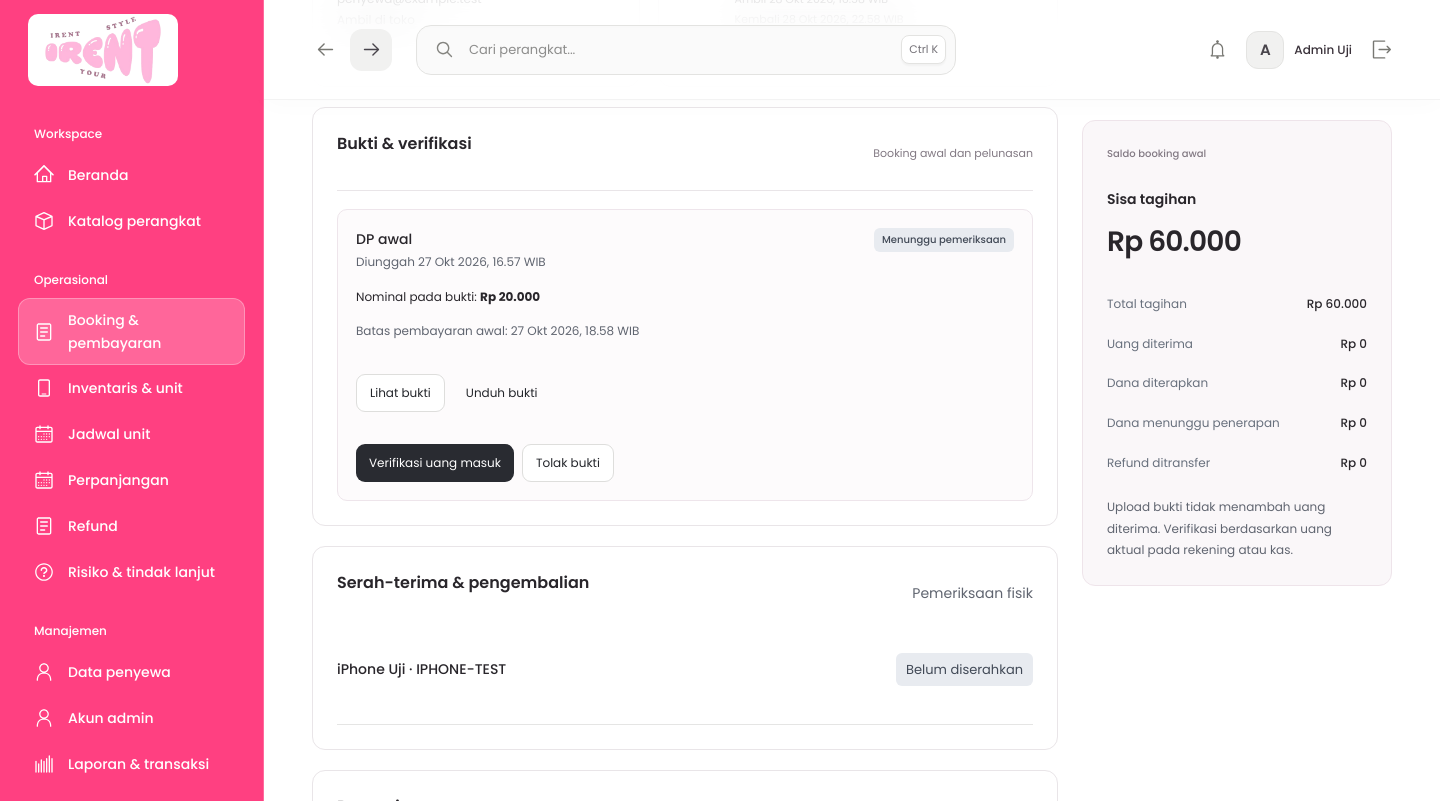
Scenario: rejects a proof with a reason without invoking booking cancellation
(page scrolled)
Click the button "Tolak bukti": coordinates (568, 462) x1=522 y1=444 x2=614 y2=482
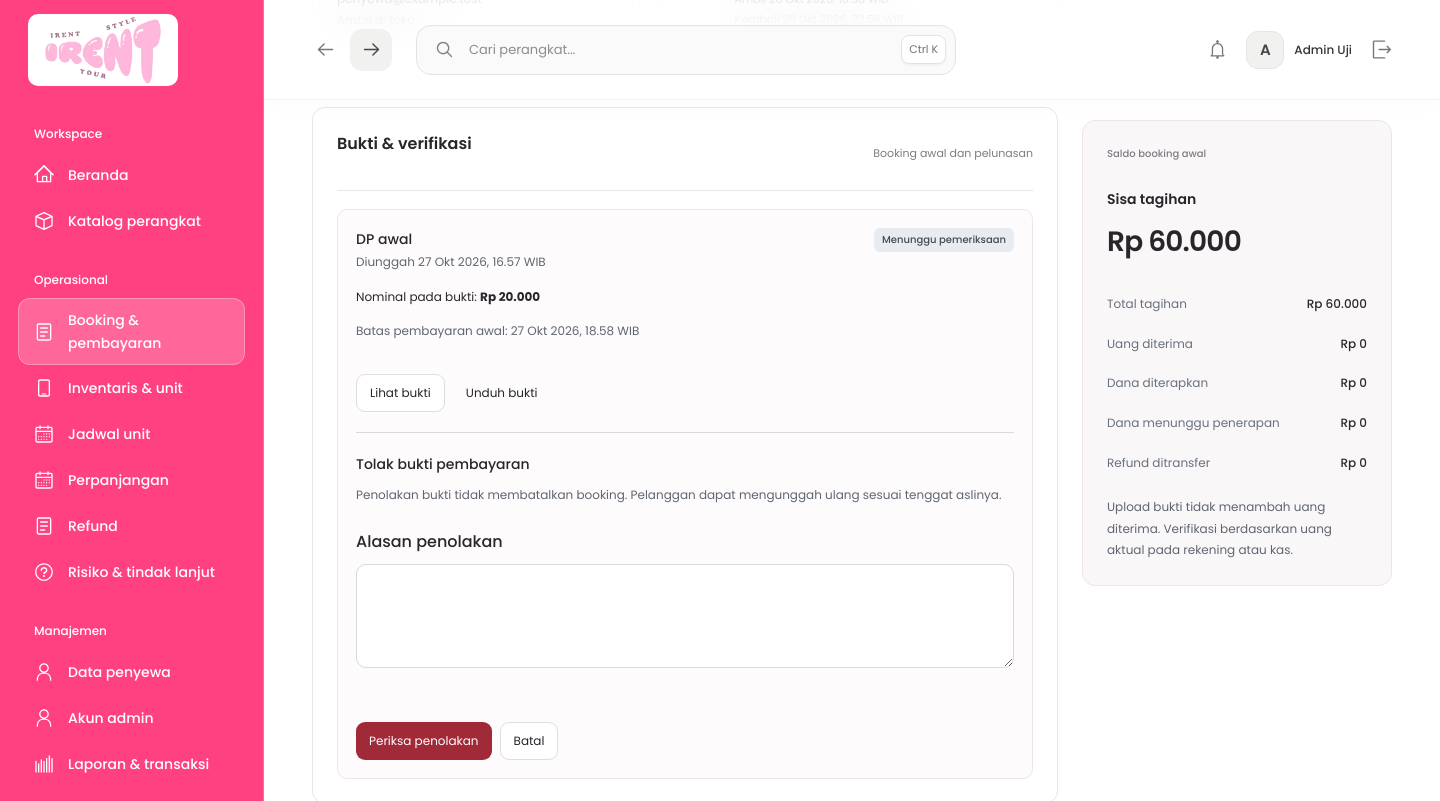
In the text box labelled "Alasan penolakan": coordinates (685, 616) x1=356 y1=564 x2=1014 y2=668, type "Nominal tidak terlihat jelas."
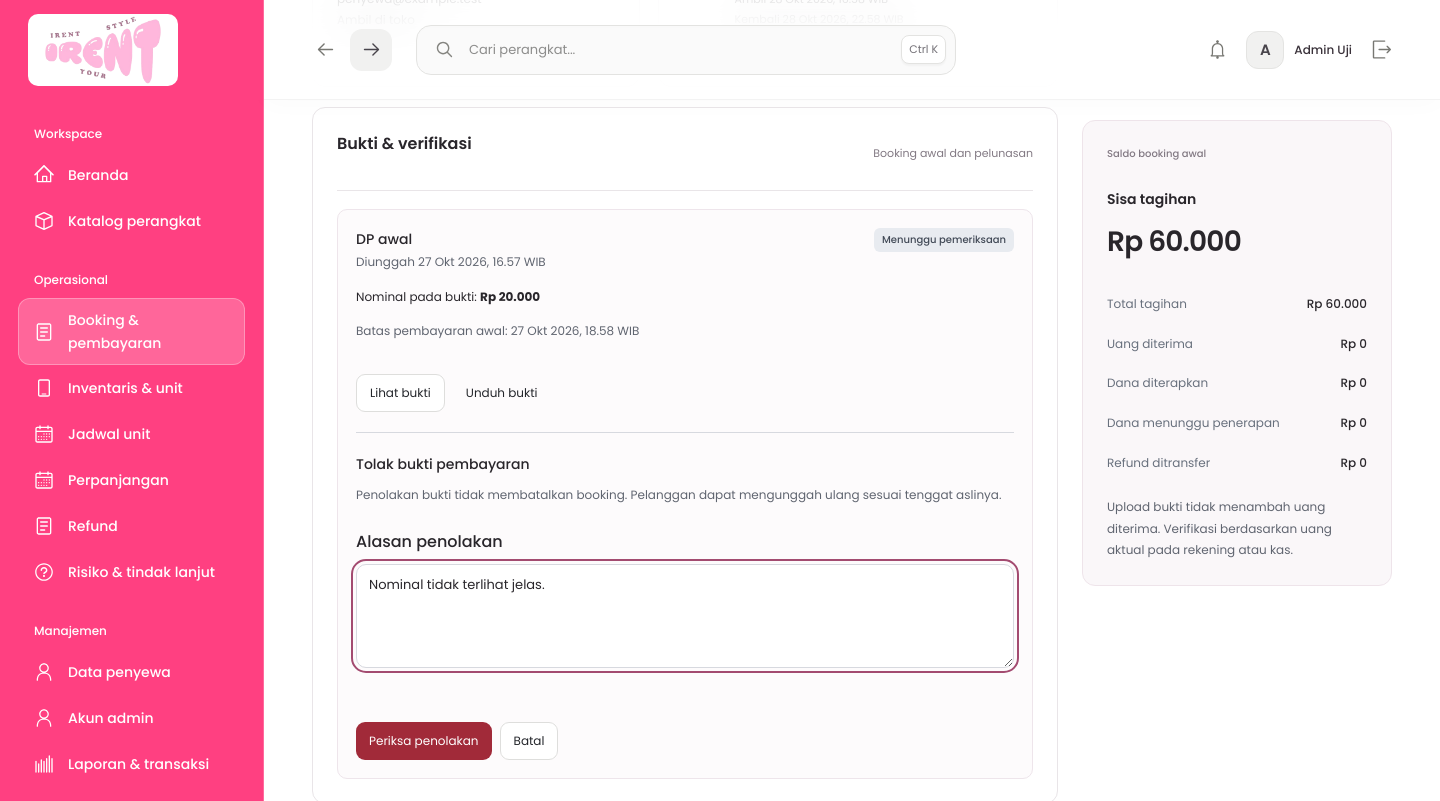
Click the button "Periksa penolakan": coordinates (424, 741) x1=356 y1=722 x2=492 y2=760
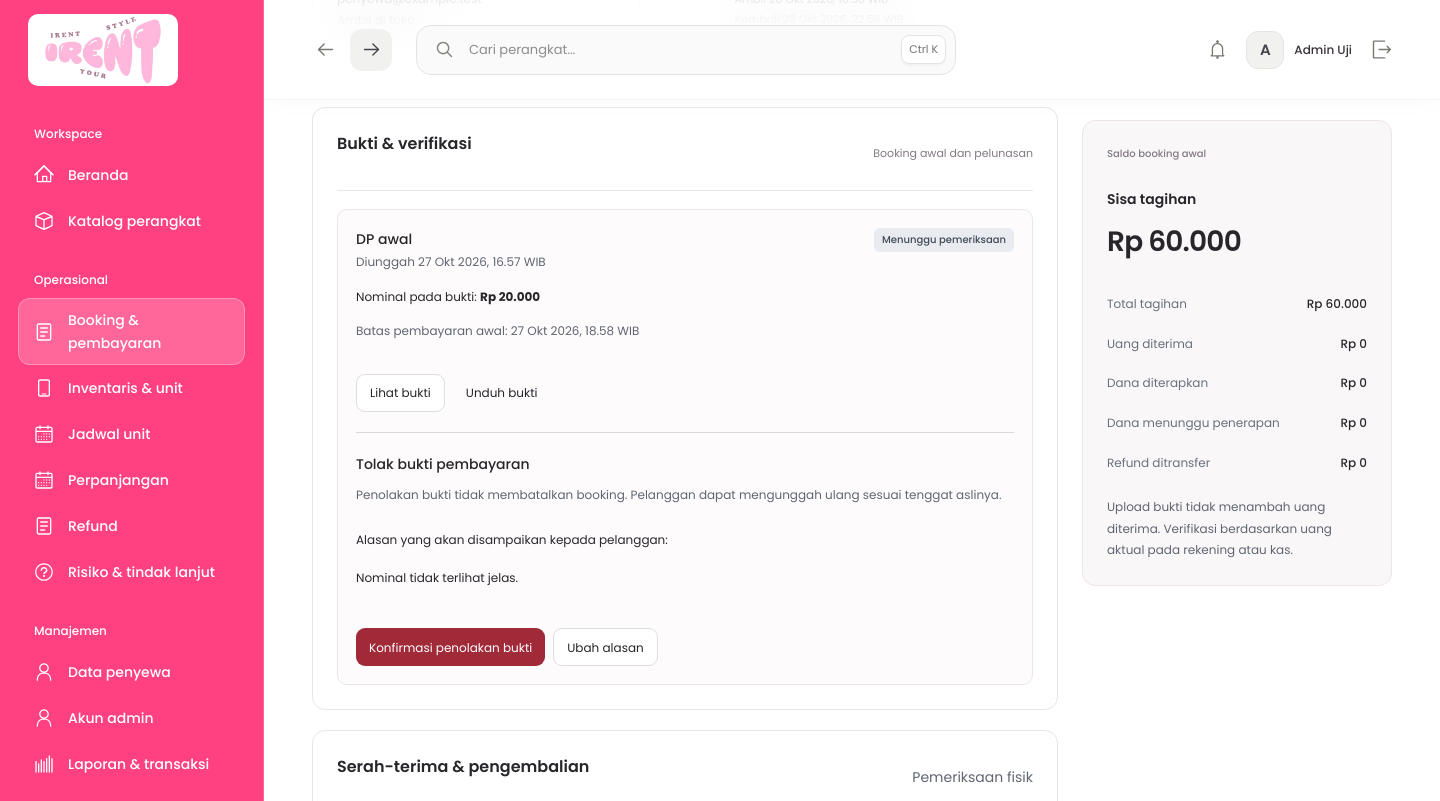
Click the button "Konfirmasi penolakan bukti": coordinates (451, 647) x1=356 y1=628 x2=545 y2=666
(page scrolled)
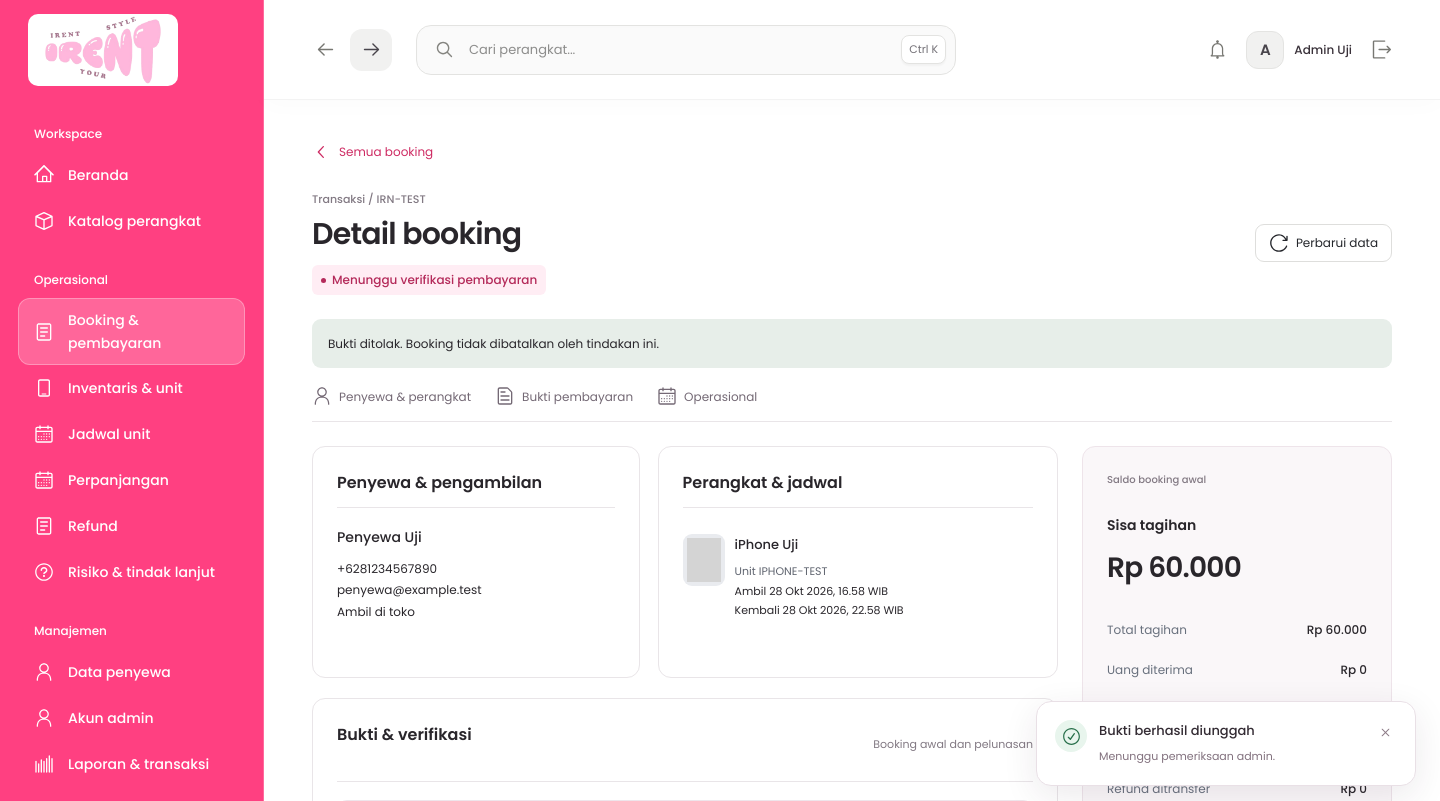
Check: the message "Bukti ditolak. Booking tidak dibatalkan oleh tindakan ini." is shown, box x1=312 y1=319 x2=1392 y2=368
